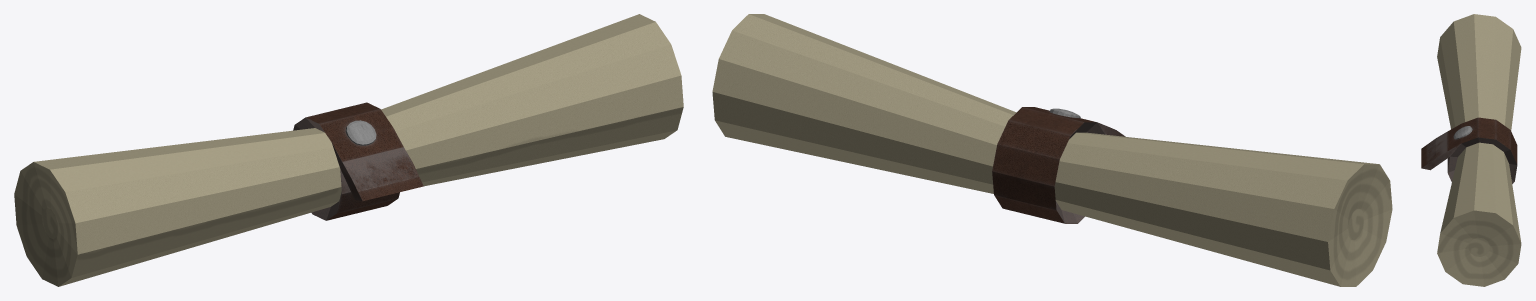
The model's file is Scroll.gltf.
3 views of the same model, side by side, from view 1: azimuth 30°, elevation 25°; view 2: azimuth 150°, elevation 25°; view 3: azimuth 270°, elevation 25° (orthographic). The views are drawn at different scales.
Parts seen in each view (by area): view 1: Cube; view 2: Cube; view 3: Cube.
Part boxes in pixels (left/top/right/bottom): Cube: left=14, top=14, right=683, bottom=286; Cube: left=712, top=14, right=1392, bottom=286; Cube: left=1421, top=14, right=1521, bottom=286.
Size of the model in its own units: 1.09 by 0.2037 by 0.2352.
3 materials, 3 textured.
